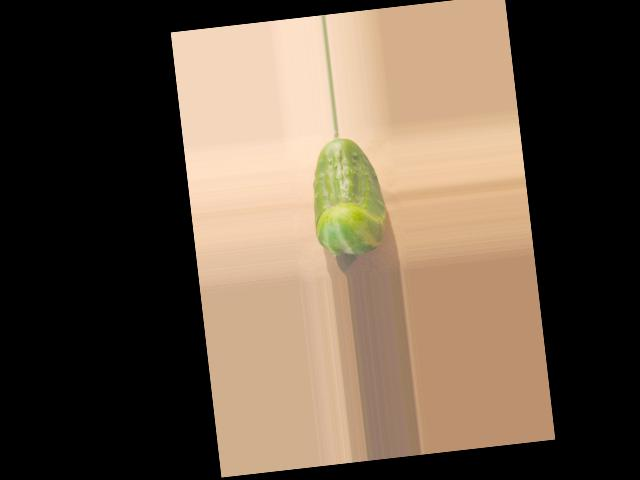cucumber: (304, 134, 389, 258)
